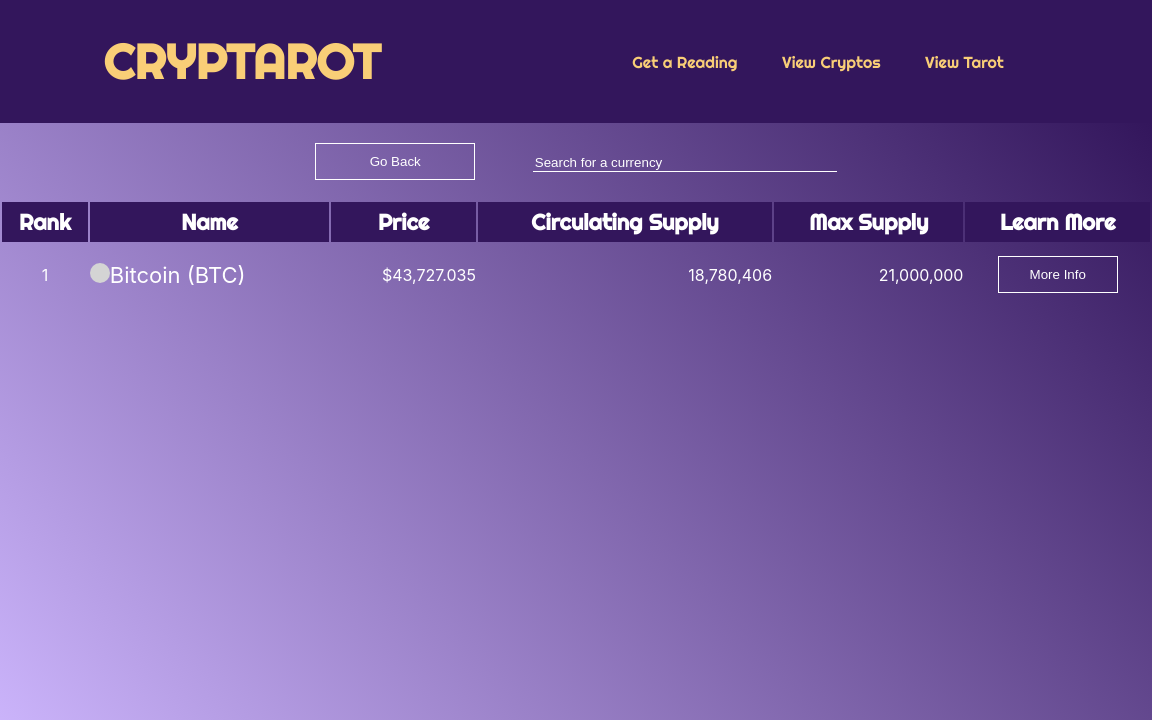
Test: Cryptos / CryptosInfo components › User is presented with message asking them to try a different result if there are no matches
The image size is (1152, 720).
Type "asdf" into the field with placeholder "Search for a currency" at (685, 163), box [533,154,837,172]
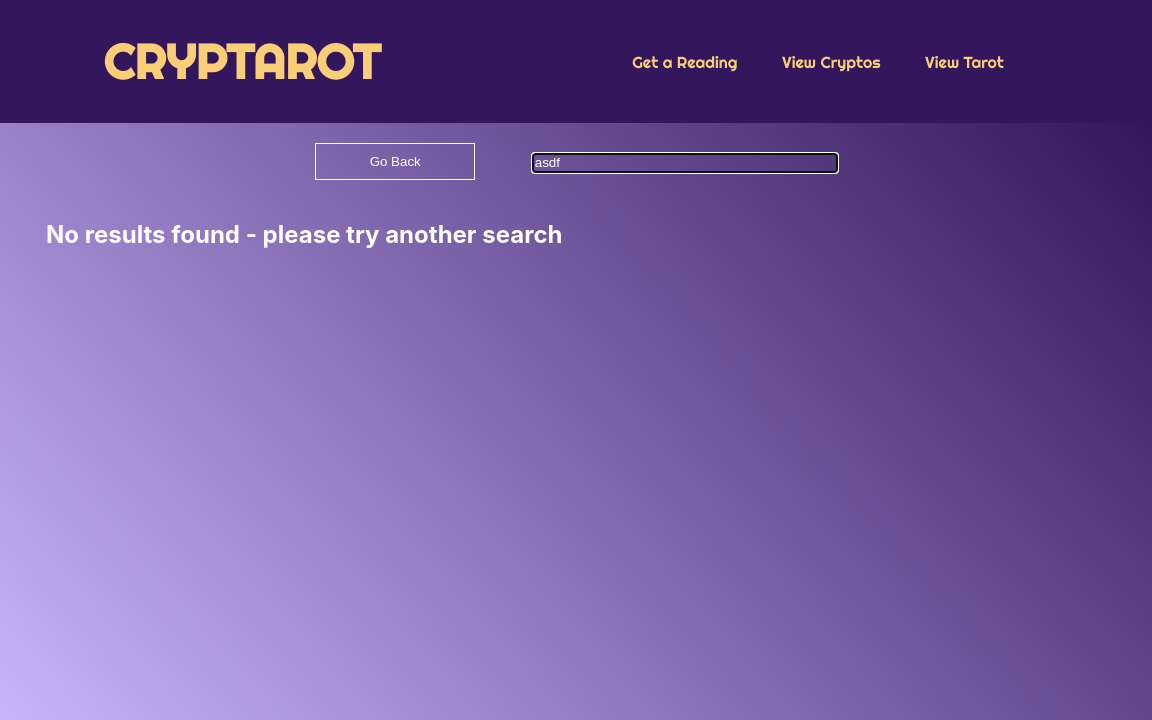
expect the heading "No results found - please try another search" is shown: met, box [46,220,562,249]
